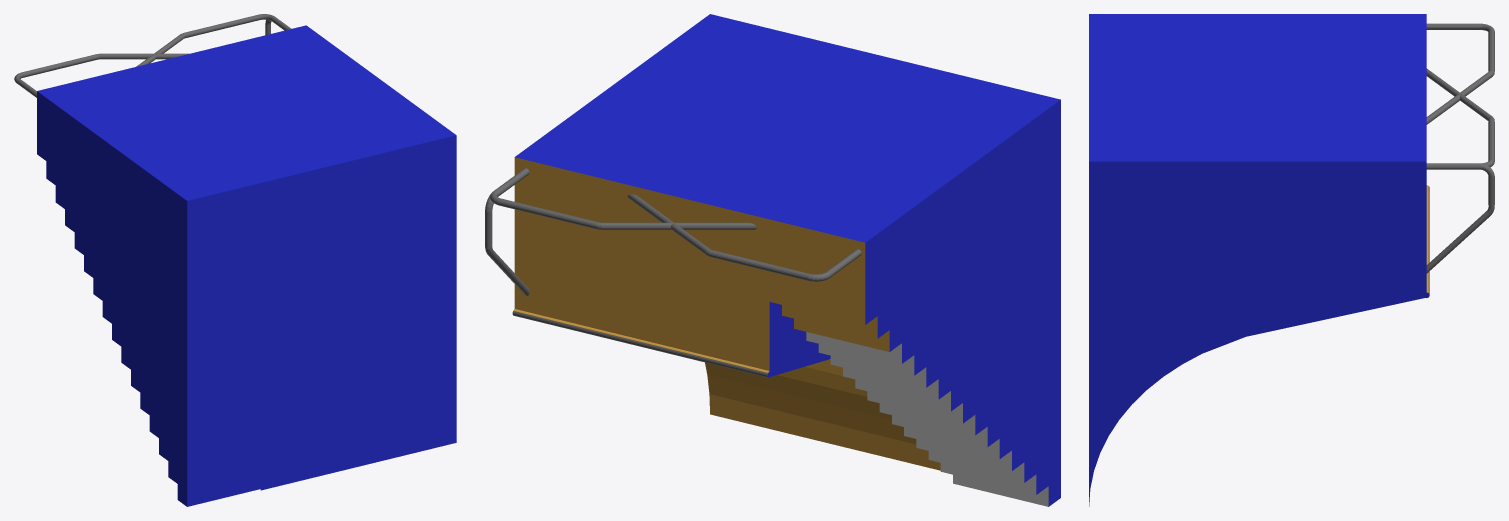
The model's file is Drop In Ramp W Railing W Stairs Right.fbx.
3 views of the same model, side by side, from view 1: azimuth 30°, elevation 25°; view 2: azimuth 150°, elevation 25°; view 3: azimuth 270°, elevation 25° (orthographic). The views are drawn at different scales.
Visible parts, largest first — view 1: Drop In Ramp W Railing W Stairs Right; view 2: Drop In Ramp W Railing W Stairs Right; view 3: Drop In Ramp W Railing W Stairs Right.
Boxes of the visible parts, <box> form: Drop In Ramp W Railing W Stairs Right: <box>14,14,456,506</box>; Drop In Ramp W Railing W Stairs Right: <box>485,14,1060,506</box>; Drop In Ramp W Railing W Stairs Right: <box>1089,14,1494,506</box>.
Bounding box in the file's own units: 2200 × 2400 × 2555.
